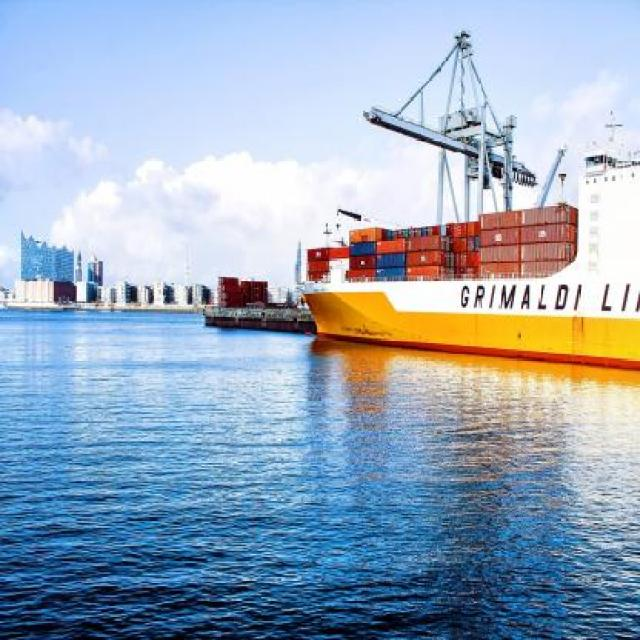ship: (300, 34, 638, 372)
